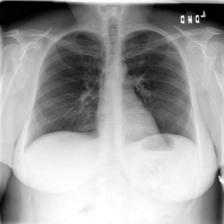normal: (24, 22, 202, 172)
